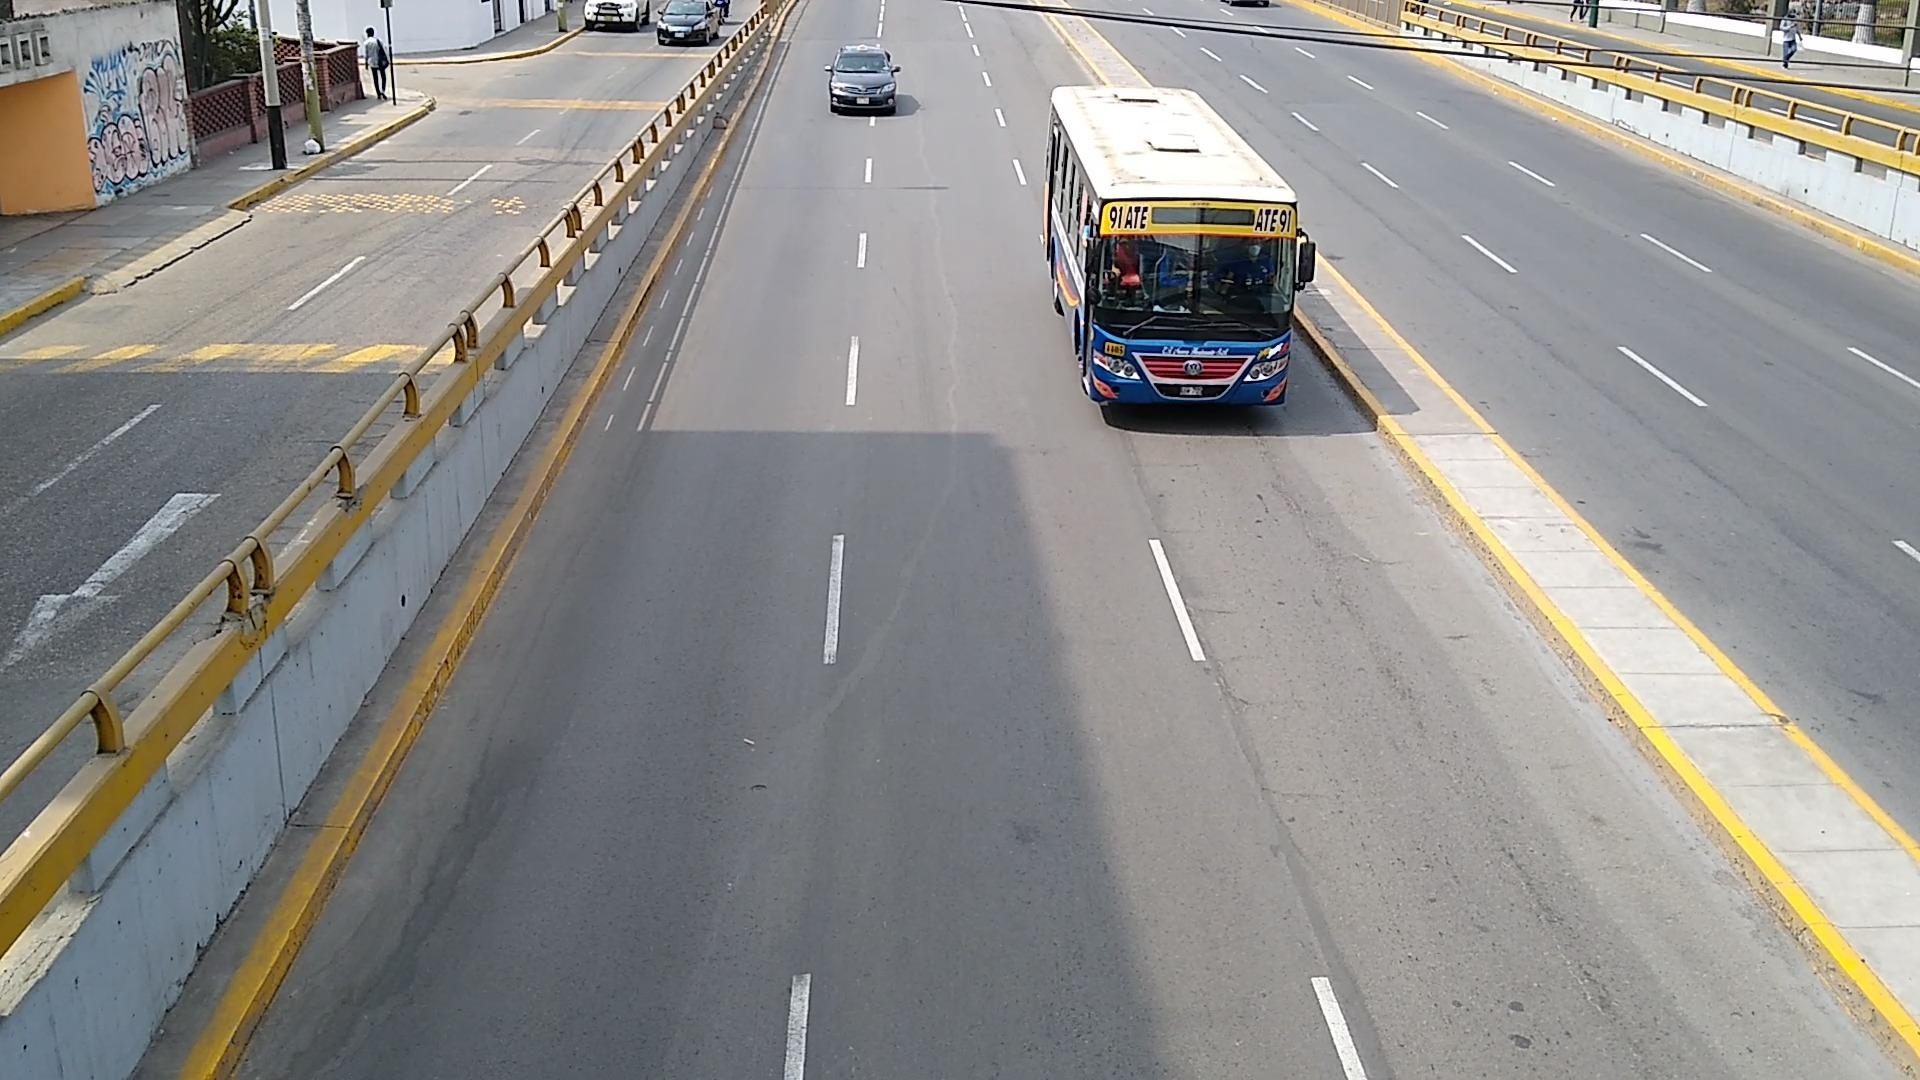bus: (1039, 75, 1316, 409)
car: (828, 45, 897, 112), (657, 0, 720, 45), (585, 0, 637, 30)
